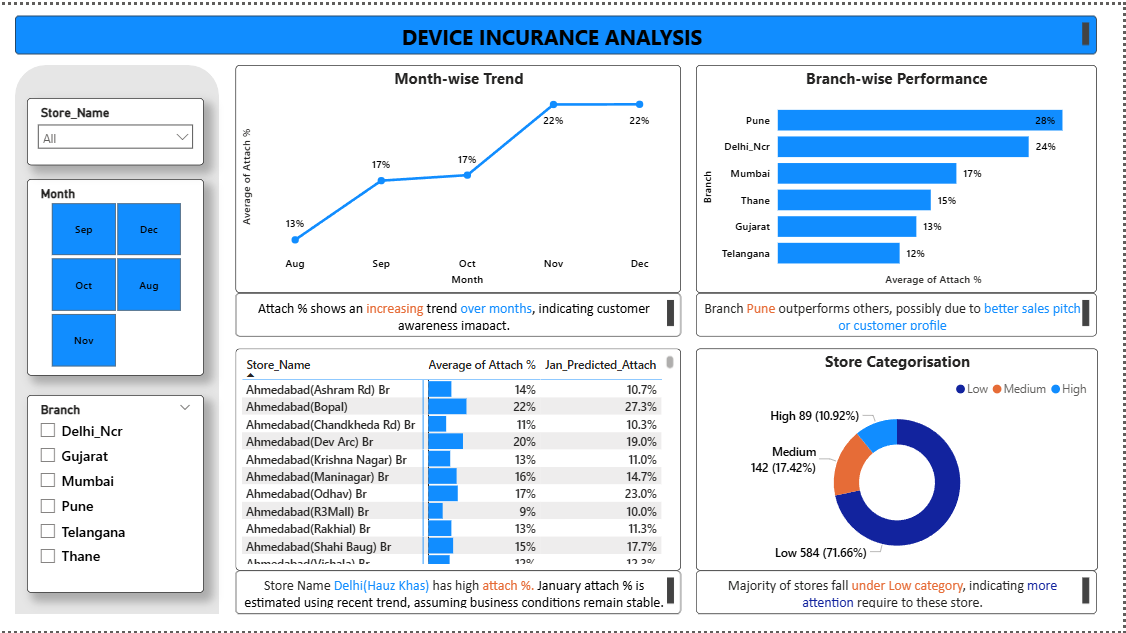

This screenshot's page, from the dashboard's own definition file:
{"tool":"powerbi","page":{"name":"Page 1","canvas":[1291,719],"ordinal":0},"visuals":[{"type":"lineChart","title":"Month-wise Trend","fields":{"Category":["Sheet1.Month"],"Y":["Avg(Sheet1.Attach %)"]},"box":[270.7,69,512.1,262.1],"z":0},{"type":"clusteredBarChart","title":"Branch-wise Performance","fields":{"Category":["Sheet1.Branch"],"Y":["Avg(Sheet1.Attach %)"]},"box":[800,69,460.3,262.1],"z":1000},{"type":"pivotTable","fields":{"Rows":["Sheet1.Store_Name"],"Values":["Avg(Sheet1.Attach %)","Sheet1.Jan_Predicted_Attach"]},"box":[270.7,394.8,512.1,255.2],"z":2000},{"type":"shape","box":[17.2,69,234.5,631],"z":2500},{"type":"donutChart","title":"Store Categorisation","fields":{"Category":["Sheet1.Store Categorisation"],"Y":["CountNonNull(Sheet1.Store_Name)"]},"box":[800,394.8,462.1,255.2],"z":3000},{"type":"slicer","fields":{"Values":["Sheet1.Month"]},"box":[31,200,203.4,225.9],"z":4000},{"type":"slicer","fields":{"Values":["Sheet1.Store_Name"]},"box":[31,106.9,203.4,77.6],"z":5000},{"type":"slicer","fields":{"Values":["Sheet1.Branch"]},"box":[31,448.3,203.4,227.6],"z":6000},{"type":"textbox","box":[270.7,331,512.1,50],"z":7000},{"type":"textbox","box":[800,331,460.3,50],"z":8000},{"type":"textbox","box":[800,650,460.3,50],"z":9000},{"type":"textbox","box":[270.7,650,512.1,50],"z":10000},{"type":"textbox","box":[17.2,12.1,1243.1,44.8],"z":10001}]}

Visuals, with their boxes in screenshot pixels (x1, y1, x2, y2), scaled from the page's 1291x719 canvas onto the 1126x633 screenshot:
"Month-wise Trend" lineChart: [x1=236, y1=61, x2=683, y2=291]
"Branch-wise Performance" clusteredBarChart: [x1=698, y1=61, x2=1099, y2=291]
pivotTable - Sheet1.Store_Name x Avg(Sheet1.Attach %): [x1=236, y1=348, x2=683, y2=572]
shape: [x1=15, y1=61, x2=220, y2=616]
"Store Categorisation" donutChart: [x1=698, y1=348, x2=1101, y2=572]
slicer - Sheet1.Month: [x1=27, y1=176, x2=204, y2=375]
slicer - Sheet1.Store_Name: [x1=27, y1=94, x2=204, y2=162]
slicer - Sheet1.Branch: [x1=27, y1=395, x2=204, y2=595]
textbox: [x1=236, y1=291, x2=683, y2=335]
textbox: [x1=698, y1=291, x2=1099, y2=335]
textbox: [x1=698, y1=572, x2=1099, y2=616]
textbox: [x1=236, y1=572, x2=683, y2=616]
textbox: [x1=15, y1=11, x2=1099, y2=50]
